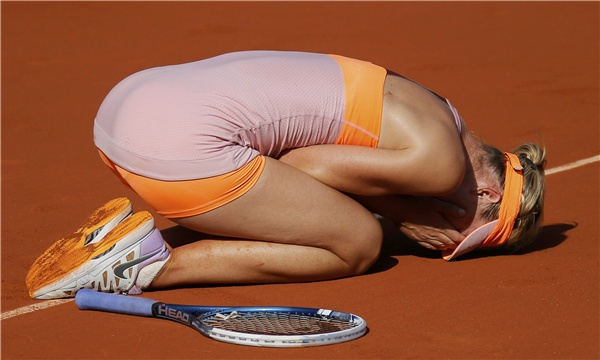falling: (38, 28, 567, 325)
